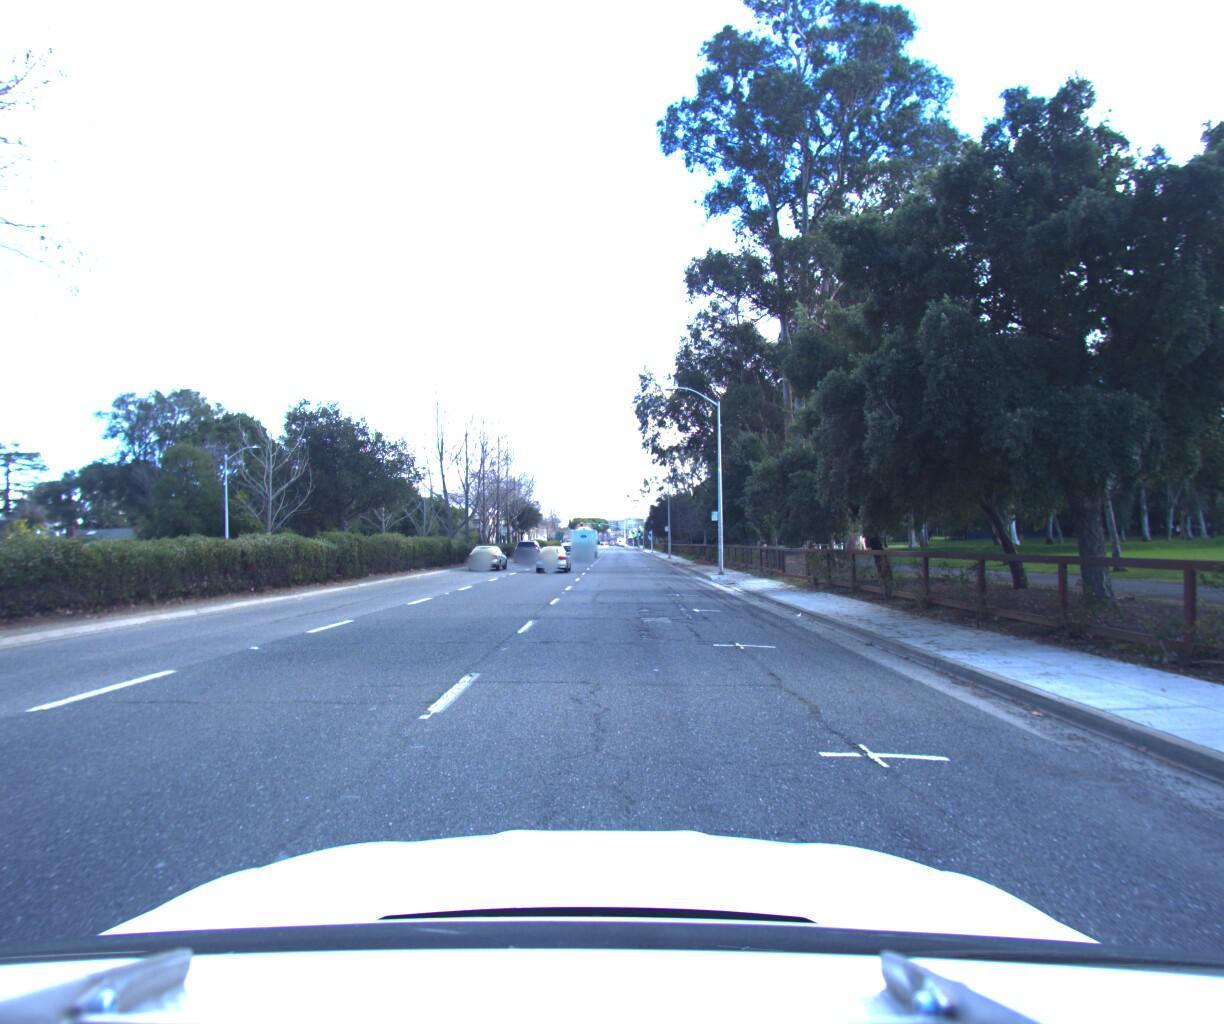bus: (569, 516, 604, 548)
car: (535, 536, 574, 568), (464, 535, 508, 563), (513, 530, 545, 554)
